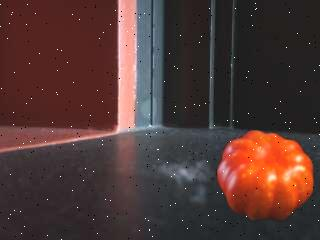Pumpkin: (216, 131, 314, 222)
